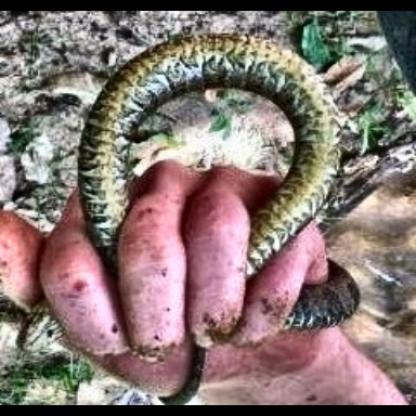Snake: (72, 27, 364, 327)
